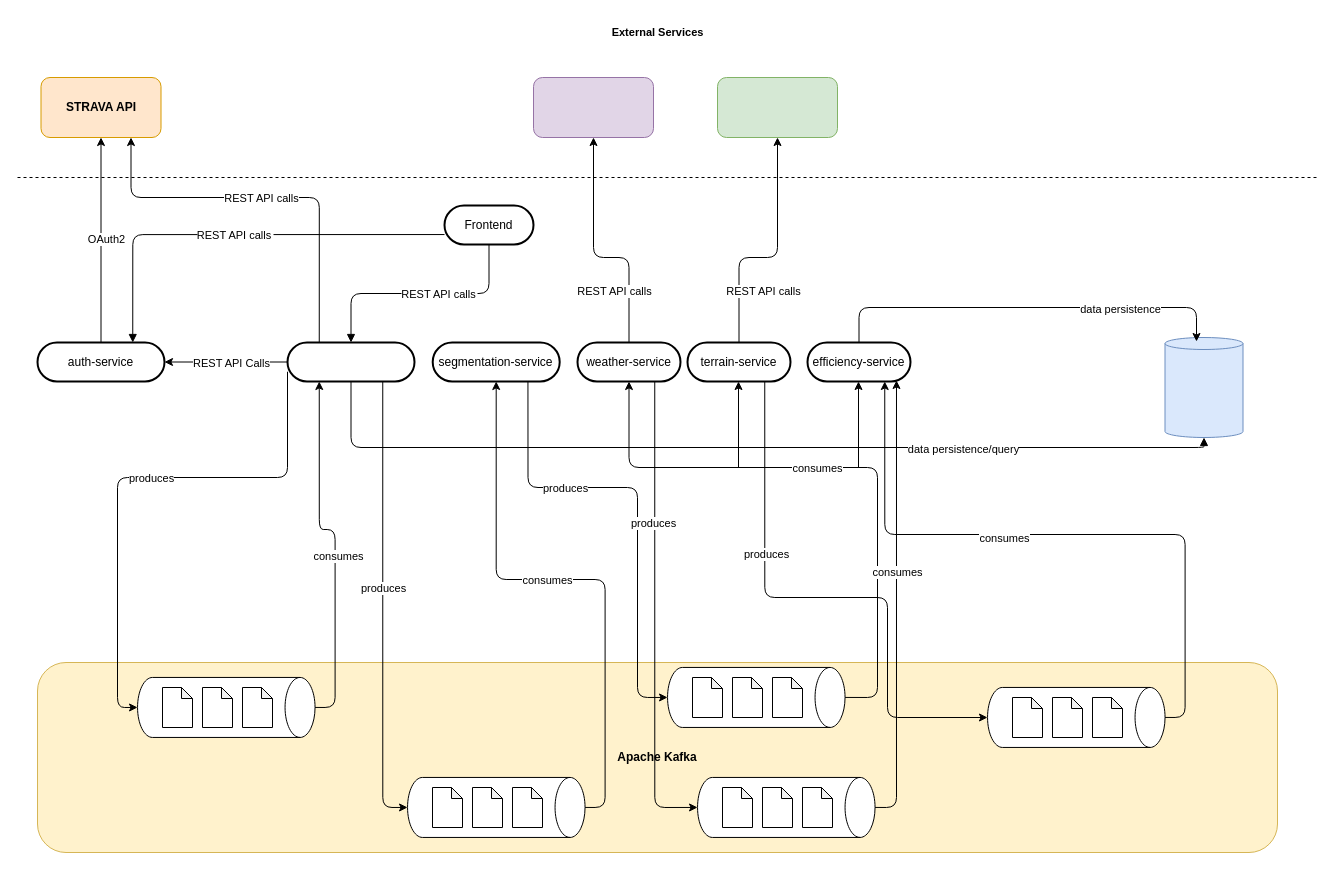
This 1338x870 diagram has some shape labels left out. The shapes that lost their labels are listed below. From the top down, each one's centre as x and y in pixels, then its label:
At [593,107]: "WEATHER API".
At [777,107]: "OVERPASS API".
At [350,361]: "activity-service".
At [1203,387]: "PostgreSQL DB".
